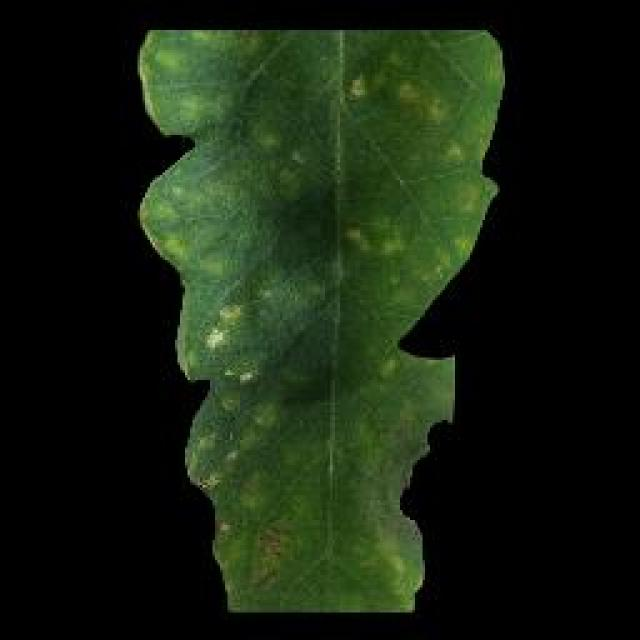Tomato Late Blight: (217, 42, 468, 600)
